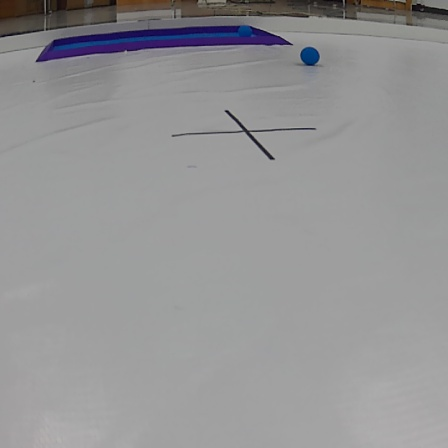blue: (297, 43, 321, 67), (236, 22, 257, 41)
blue_aim: (33, 27, 295, 58)
